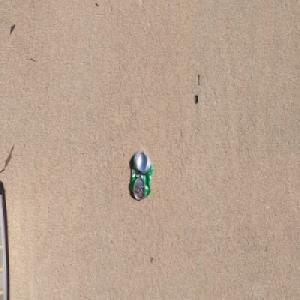SodaCan: (129, 149, 153, 201)
